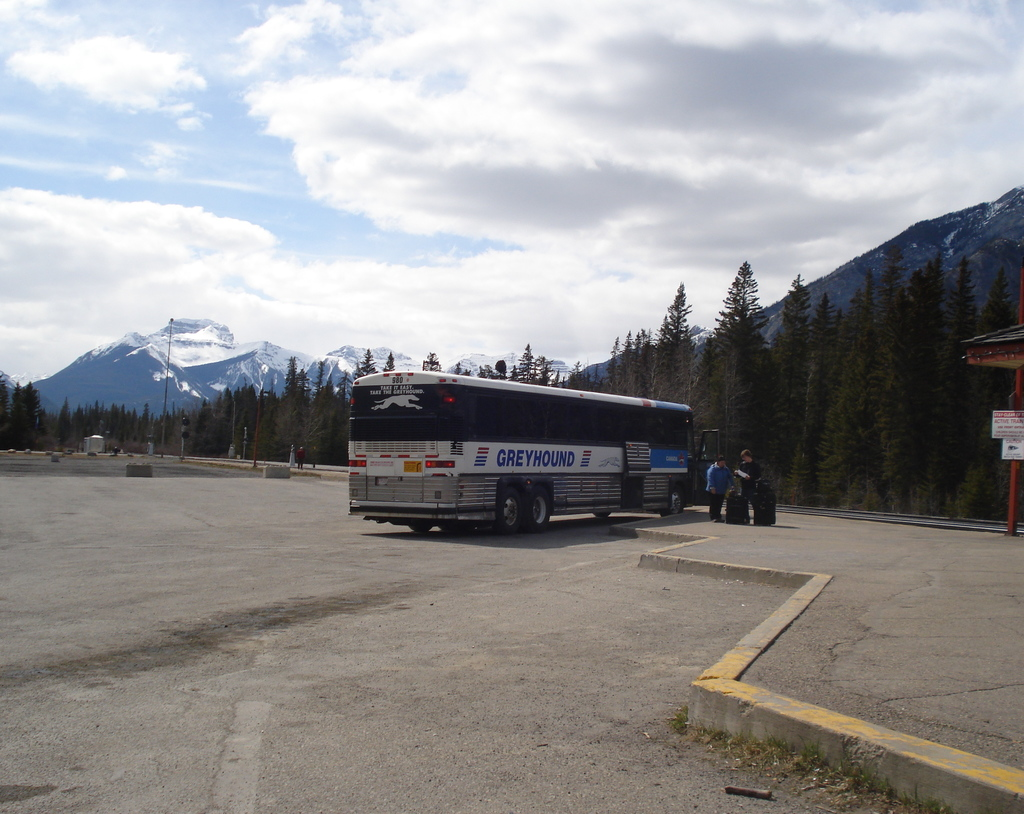Bus: (346, 367, 723, 533)
